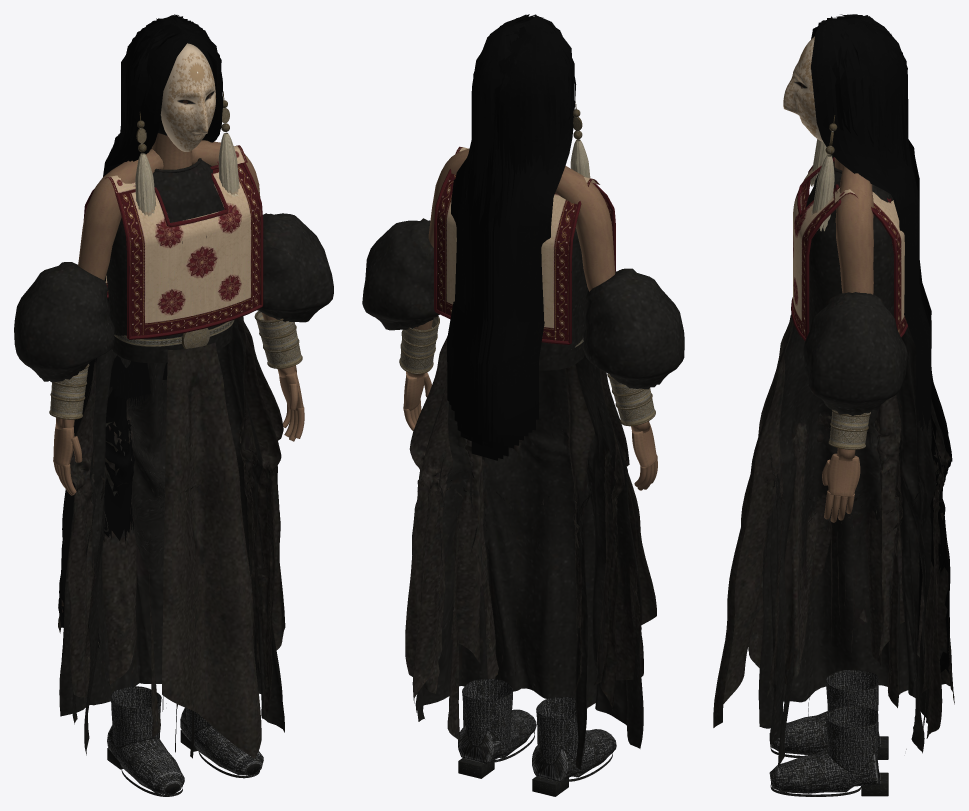
File: shahrnaz.glb
The picture shows the model from 3 angles, left to right: view 1: azimuth 30°, elevation 25°; view 2: azimuth 150°, elevation 25°; view 3: azimuth 270°, elevation 25°; orthographic projection.
Visible parts, largest first — view 1: FrontDrape, OverSkirt, UnderSkirt, BibFront, PuffSleeve, HairBase, PuffSleeve.001, Bodice, Mask, Arm, BootFoot, BootShaft (+12 smaller); view 2: UnderSkirt, HairBase, OverSkirt, PuffSleeve, PuffSleeve.001, BibBack, Arm, FrontDrape, BootShaft.001, Bodice, BootShaft, Shahrnaz (+8 smaller); view 3: UnderSkirt, OverSkirt, HairBase, PuffSleeve.001, FrontDrape, Bodice, Arm.001, BootFoot.001, BootShaft.001, BibFront, BootShaft, Mask (+8 smaller).
Part boxes in pixels (x1,y1,x2,y2): FrontDrape: (162,342,261,757); OverSkirt: (58,316,285,737); UnderSkirt: (59,319,284,758); BibFront: (119,163,260,336); PuffSleeve: (14,262,115,382); HairBase: (103,14,221,398); PuffSleeve.001: (257,213,333,322); Bodice: (106,160,232,363); Mask: (160,43,215,151); Arm: (55,149,163,429); BootFoot: (107,725,184,794); BootShaft: (111,686,161,758); UnderSkirt: (415,354,643,769); HairBase: (447,14,574,460); OverSkirt: (405,336,643,741); PuffSleeve: (583,268,684,389); PuffSleeve.001: (362,218,439,330); BibBack: (437,173,577,341); Arm: (555,165,649,433); FrontDrape: (565,364,656,624); BootShaft.001: (462,679,512,754); Bodice: (539,228,588,370); BootShaft: (536,697,587,772); Shahrnaz: (399,101,655,796); UnderSkirt: (758,324,946,768); OverSkirt: (748,314,954,744); HairBase: (811,14,931,431); PuffSleeve.001: (803,292,907,415); FrontDrape: (713,318,793,727); Bodice: (806,157,893,330); Arm.001: (835,165,873,461); BootFoot.001: (769,748,879,793); BootShaft.001: (826,706,878,783); BibFront: (793,167,836,337); BootShaft: (826,670,878,712); Mask: (783,36,823,141).
Bounding box in the file's own units: 0.7928 × 1.84 × 0.5329.
7 materials, 7 textured.
